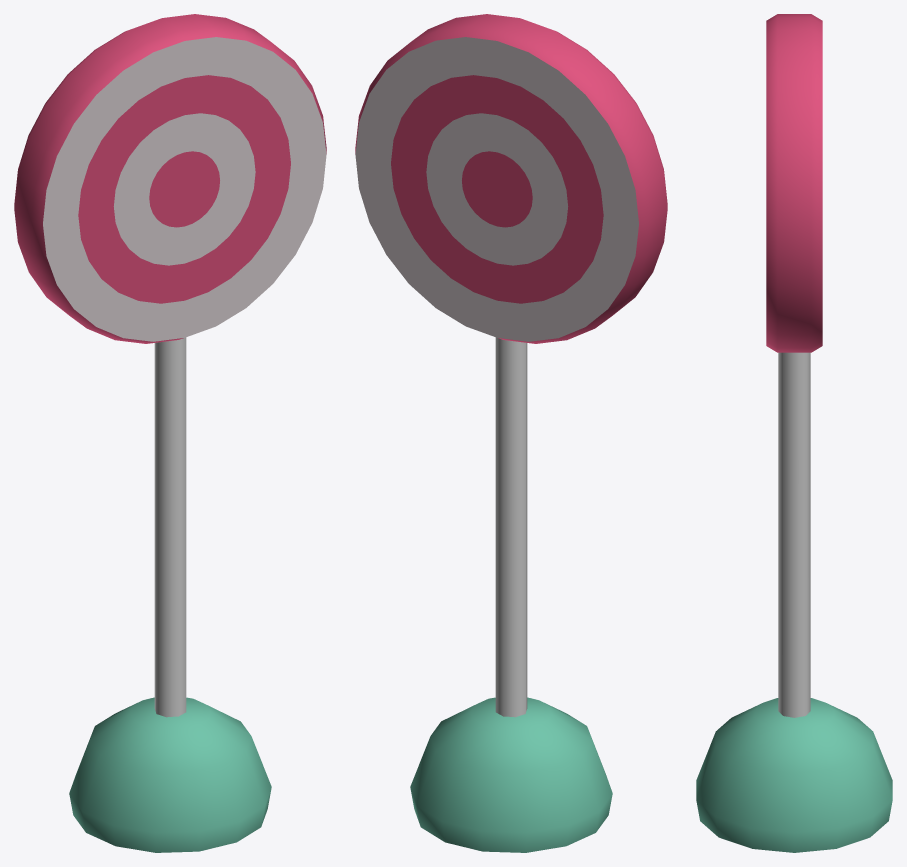
The model's file is candy-prop2.glb.
The picture shows the model from 3 angles, left to right: view 1: azimuth 30°, elevation 25°; view 2: azimuth 150°, elevation 25°; view 3: azimuth 270°, elevation 25°; orthographic projection.
Visible parts, largest first — view 1: candy-prop2; view 2: candy-prop2; view 3: candy-prop2.
Part boxes in pixels (<box>): candy-prop2: <box>14,14,326,852</box>; candy-prop2: <box>355,14,667,852</box>; candy-prop2: <box>696,14,892,852</box>.
Bounding box in the file's own units: 0.84 × 2.14 × 0.4875.
